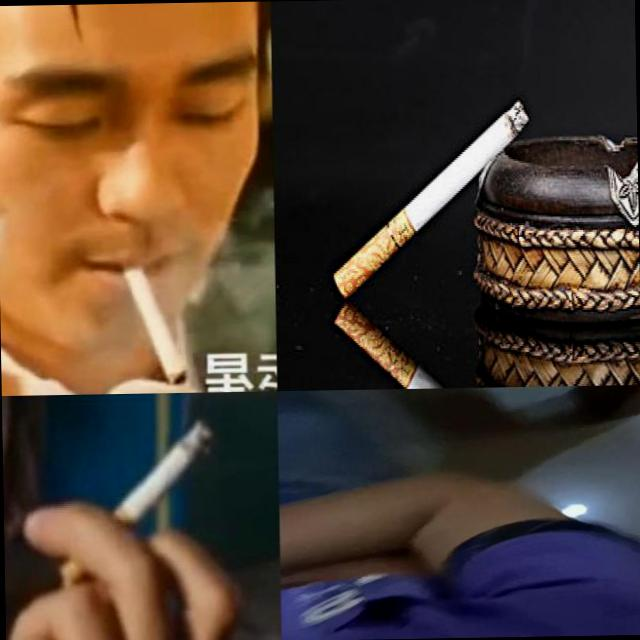smoke: (330, 96, 534, 300), (107, 412, 219, 528), (123, 262, 189, 386)
